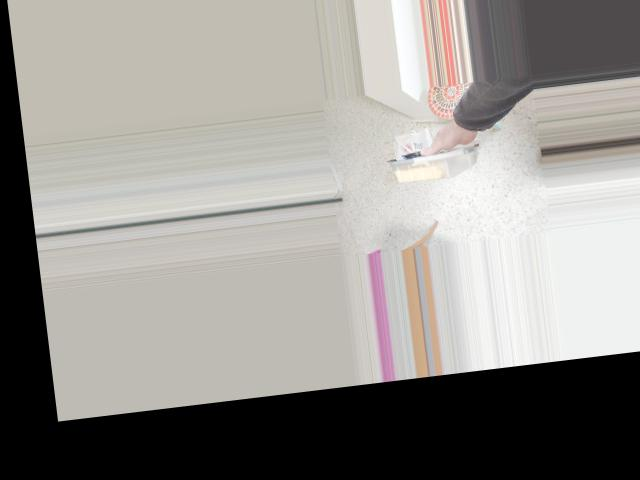cheese: (390, 100, 500, 207)
